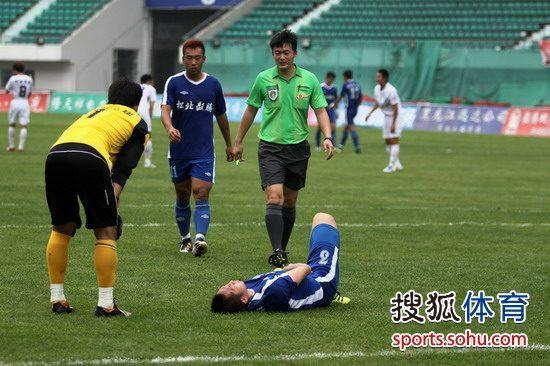Fall-Detected: (206, 205, 357, 315)
